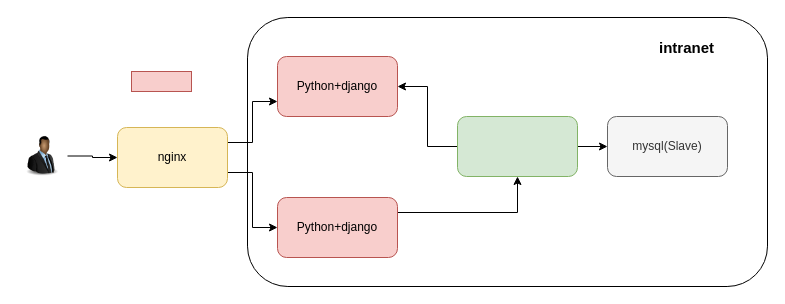
Some shapes in this 785 by 304 pixel diagram are drawn without their labels. Each missing label, with the centre of its shape:
"Internet" goes at (161,81).
"mysql(Master)" goes at (517,146).
